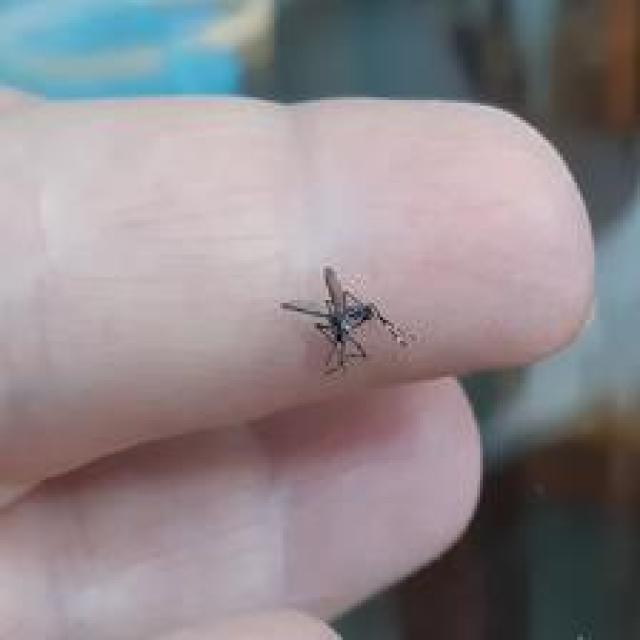Aedes albopictus: (278, 264, 413, 376)
